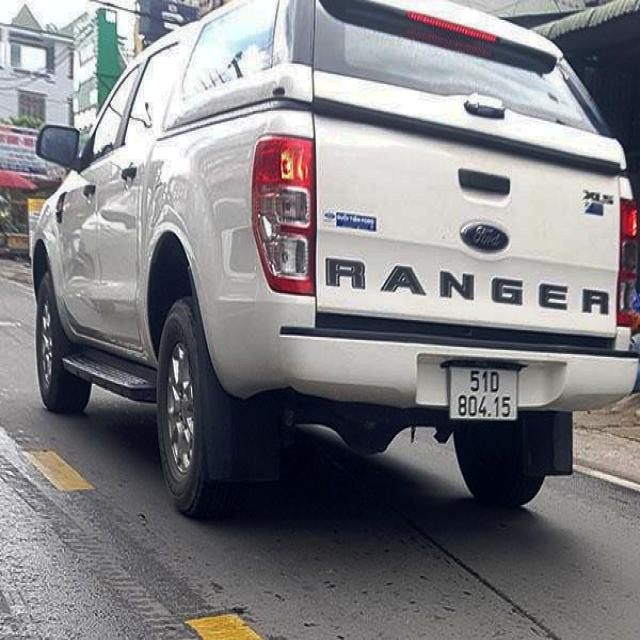license_plate: (450, 366, 519, 421)
